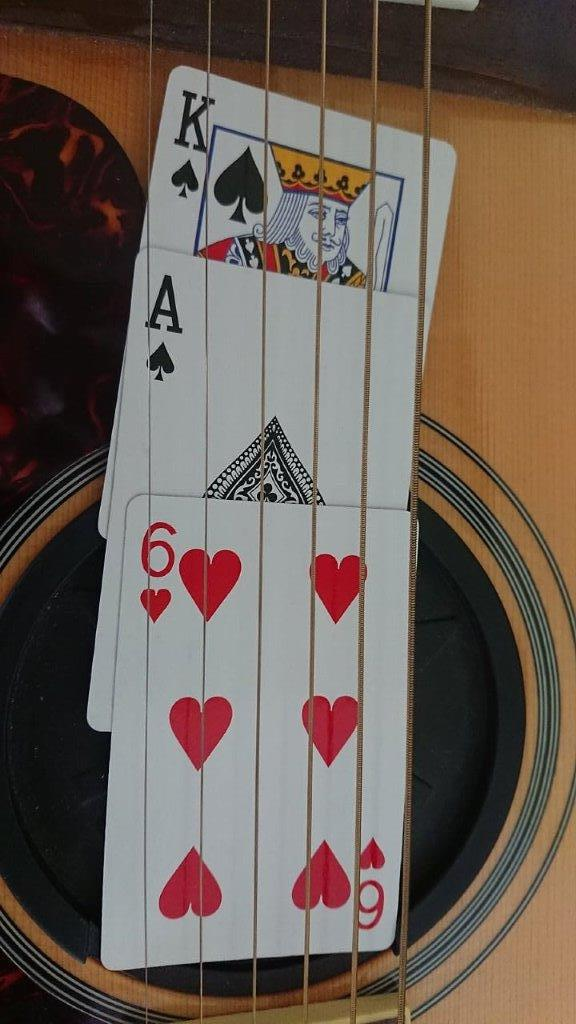6H: (134, 509, 180, 632)
AS: (138, 257, 192, 397)
KS: (162, 78, 222, 222)
